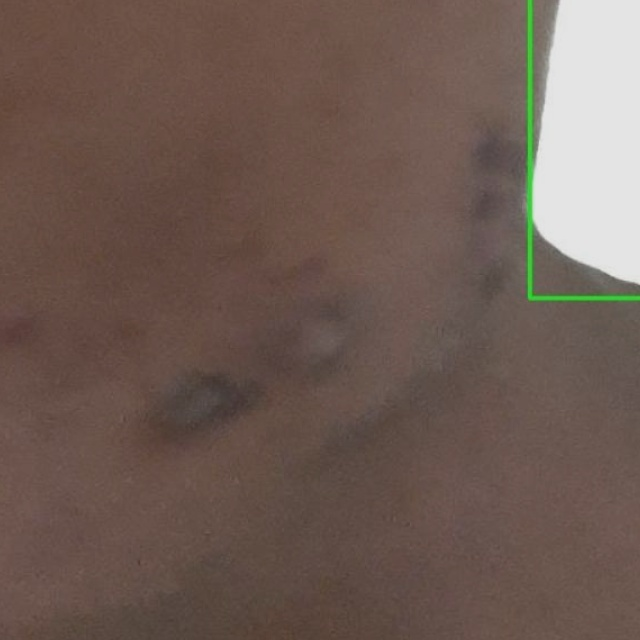Contact Dermatitis: (529, 0, 639, 298)
